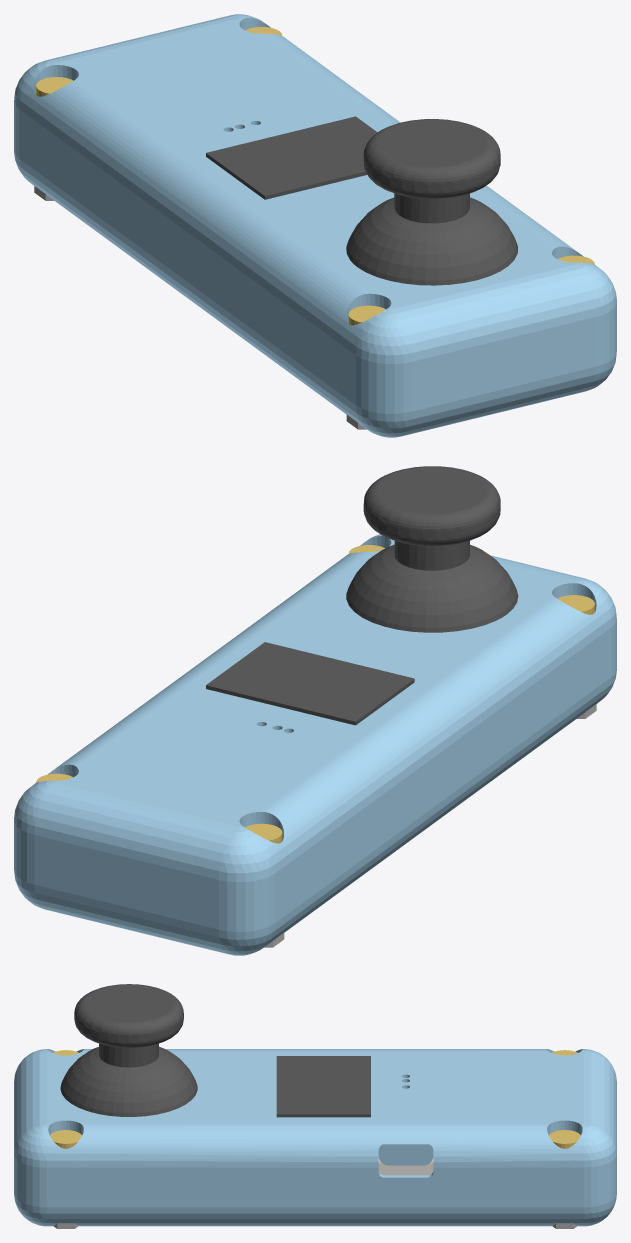
The model's file is BarbourSmith_Sauna_Boat_Controller.glb.
The picture shows the model from 3 angles, top to bottom: view 1: azimuth 30°, elevation 25°; view 2: azimuth 150°, elevation 25°; view 3: azimuth 270°, elevation 25°; orthographic projection. The views are drawn at different scales.
Visible parts, largest first — view 1: part-1, part-0, part-3, part-2; view 2: part-1, part-0, part-3, part-2; view 3: part-1, part-0, part-3, part-2, part-6, part-4, part-15, part-13.
Boxes of the visible parts, left/top/right/bottom form: part-1: left=14, top=14, right=616, bottom=388; part-0: left=14, top=127, right=616, bottom=437; part-3: left=346, top=119, right=517, bottom=285; part-2: left=206, top=116, right=377, bottom=199; part-1: left=14, top=534, right=616, bottom=906; part-0: left=14, top=645, right=616, bottom=955; part-3: left=346, top=466, right=518, bottom=632; part-2: left=206, top=642, right=414, bottom=725; part-1: left=14, top=1049, right=616, bottom=1187; part-0: left=14, top=1174, right=616, bottom=1226; part-3: left=60, top=984, right=197, bottom=1116; part-2: left=276, top=1056, right=370, bottom=1117; part-6: left=378, top=1144, right=433, bottom=1165; part-4: left=378, top=1158, right=433, bottom=1175; part-15: left=549, top=1130, right=580, bottom=1148; part-13: left=50, top=1130, right=81, bottom=1148.
Bounding box in the file's own units: 43 × 37 × 110.
